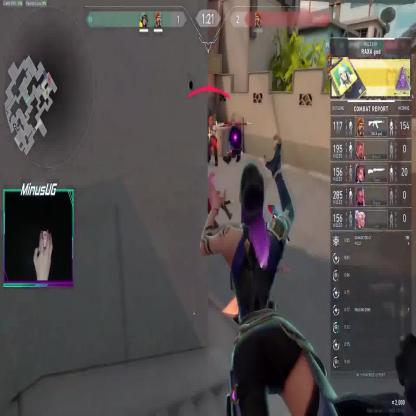enemy: (204, 116, 219, 166)
enemy_head: (208, 117, 214, 128)
